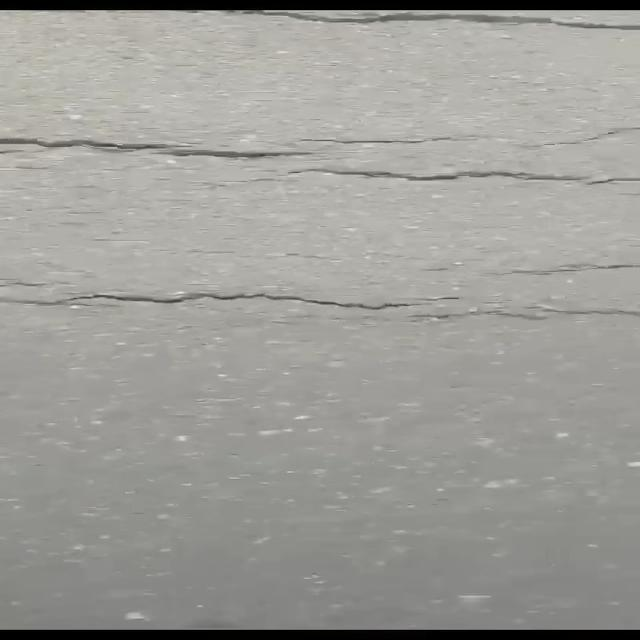Melintang: (0, 125, 640, 199), (0, 276, 640, 330)
